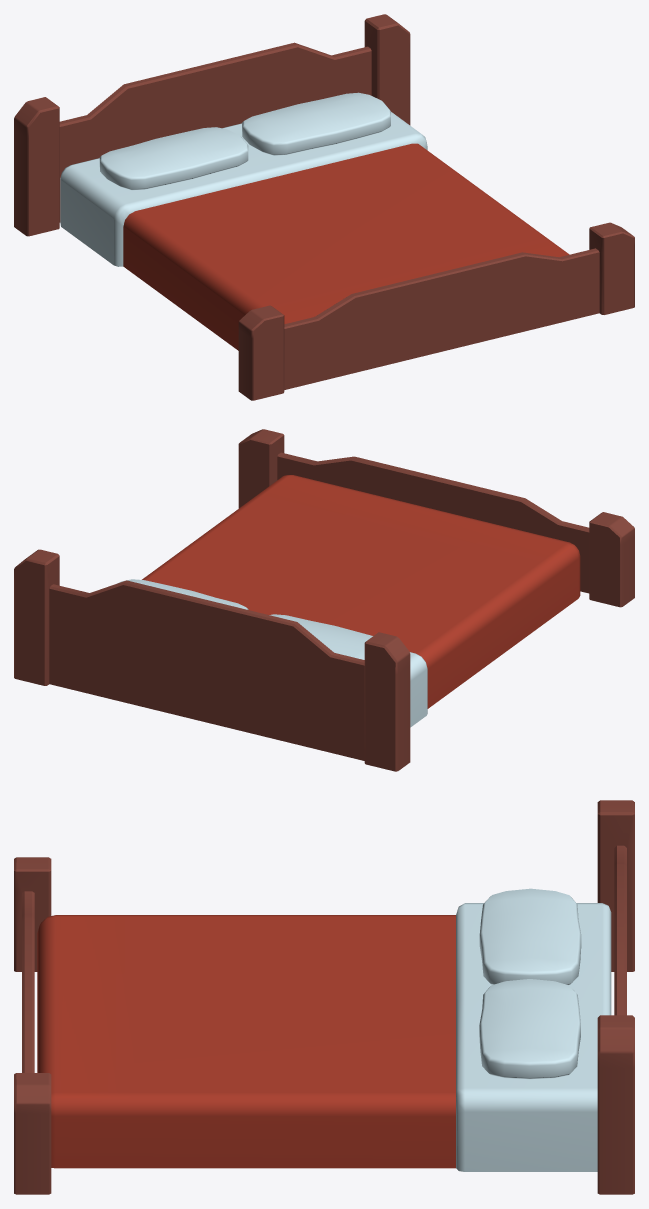
File: Letto_1.fbx
3 views of the same model, one above another, from view 1: azimuth 30°, elevation 25°; view 2: azimuth 150°, elevation 25°; view 3: azimuth 270°, elevation 25° (orthographic). The views are drawn at different scales.
Visible parts, largest first — view 1: Letto_1; view 2: Letto_1; view 3: Letto_1.
Boxes of the visible parts, left/top/right/bottom form: Letto_1: left=14, top=14, right=634, bottom=400; Letto_1: left=14, top=429, right=634, bottom=771; Letto_1: left=14, top=800, right=634, bottom=1194.
Bounding box in the file's own units: 2.55 × 0.7774 × 2.75.
